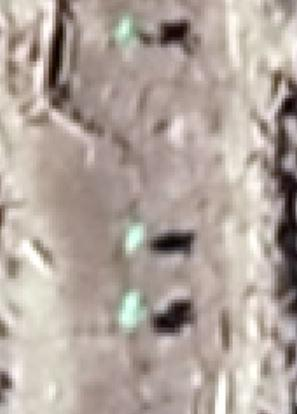cotton: (122, 293, 143, 328), (125, 222, 144, 249), (118, 15, 134, 40)
